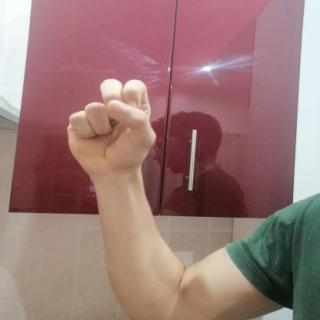QAAF: (56, 72, 166, 180)
